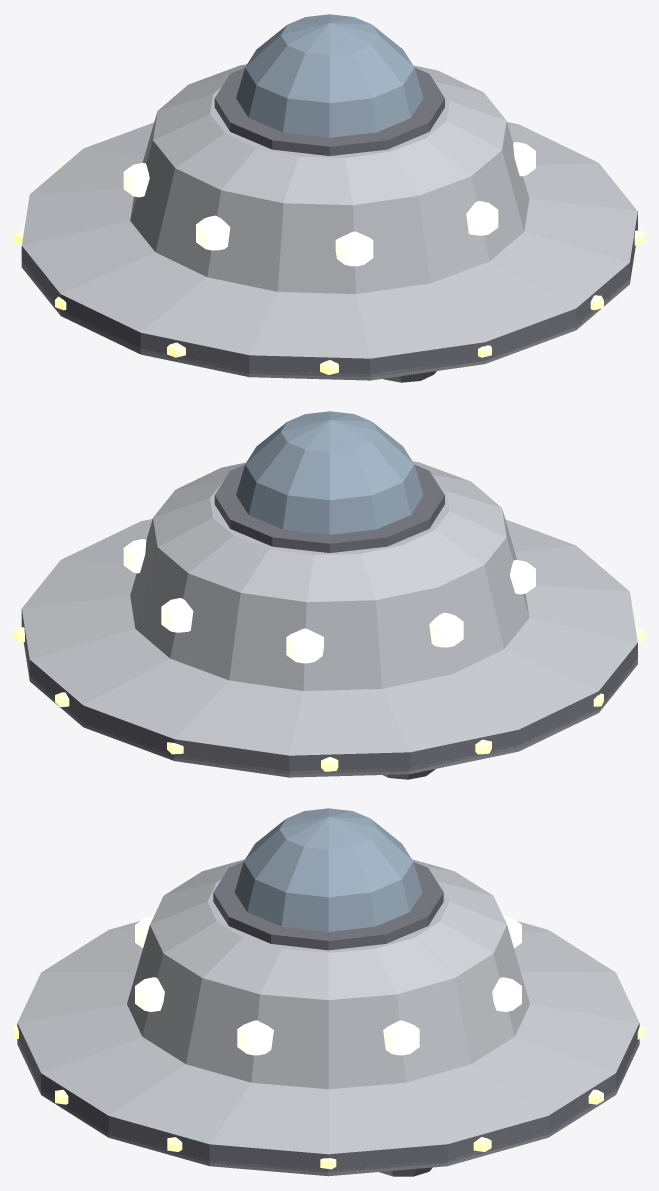
Rendered from bell.glb.
The picture shows the model from 3 angles, top to bottom: view 1: azimuth 30°, elevation 25°; view 2: azimuth 150°, elevation 25°; view 3: azimuth 270°, elevation 25°; orthographic projection.
Parts seen in each view (by area): view 1: bell, dome.005; view 2: bell, dome.005; view 3: bell, dome.005.
Part boxes in pixels (x1,y1,x2,y2): bell: (14, 64, 644, 382); dome.005: (236, 14, 423, 137); bell: (14, 461, 644, 779); dome.005: (236, 411, 423, 534); bell: (14, 859, 644, 1176); dome.005: (234, 808, 422, 931).
Bounding box in the file's own units: 5.48 × 2.88 × 5.48.
